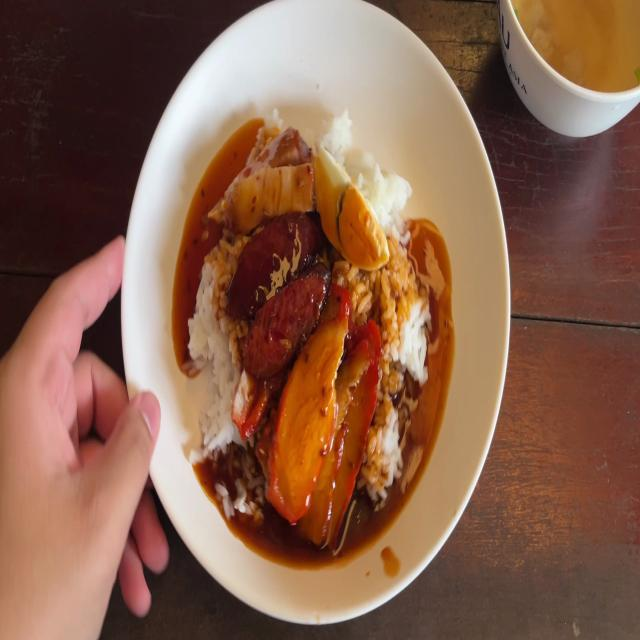red_pork_and_crispy_pork: (315, 140, 392, 270)
stir_fried_basil: (238, 212, 329, 359)
